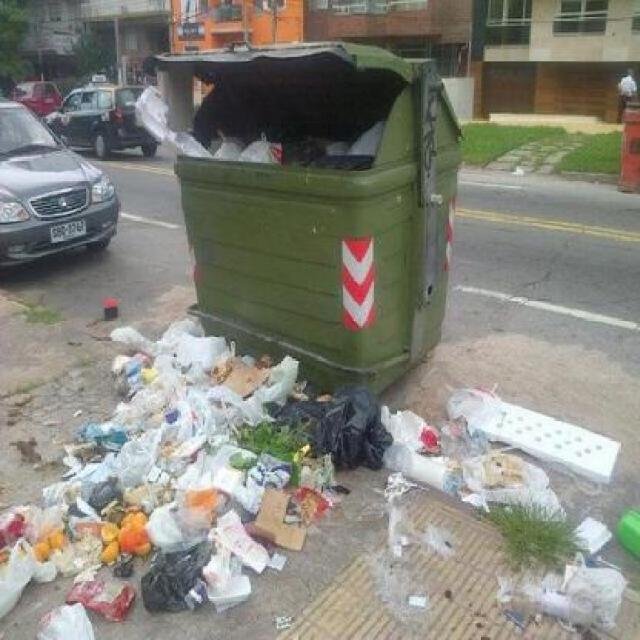garbage: (120, 323, 330, 616), (302, 392, 550, 516), (6, 436, 142, 625), (179, 97, 375, 172)
